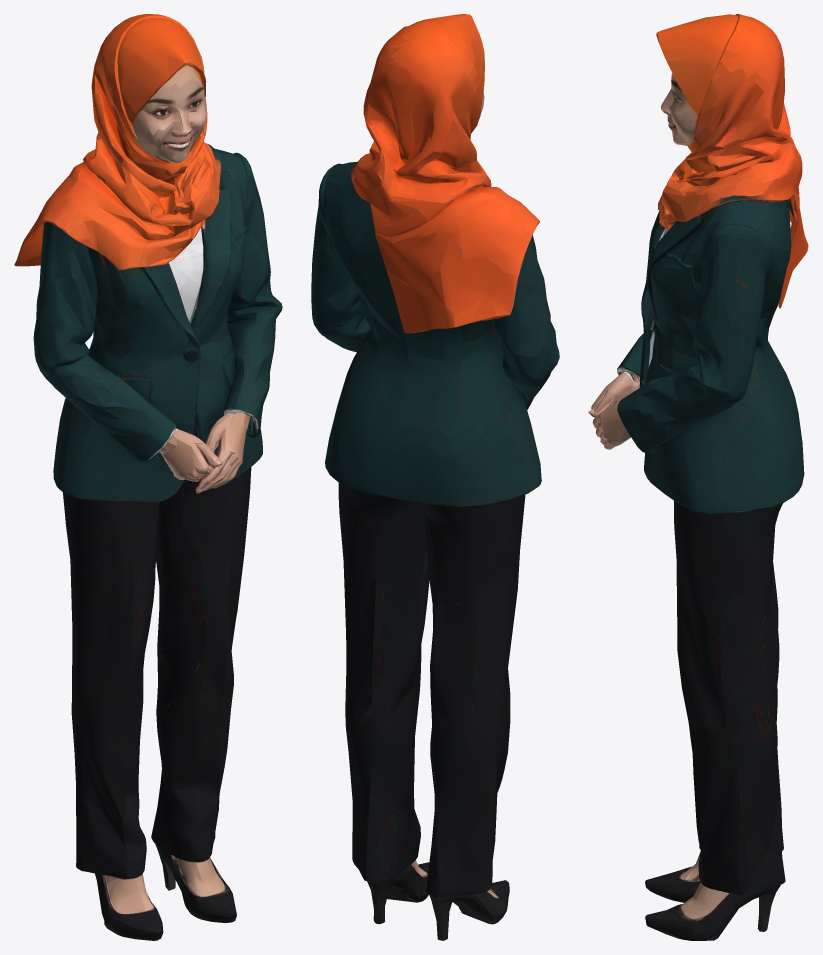
Rendered from resepsionis-wanita.glb.
3 renders of one model, left to right at view 1: azimuth 30°, elevation 25°; view 2: azimuth 150°, elevation 25°; view 3: azimuth 270°, elevation 25°, orthographic.
Bounding box in the file's own units: 0.5285 × 1.9 × 0.4239.
Materials: 1 (1 with a texture image).
